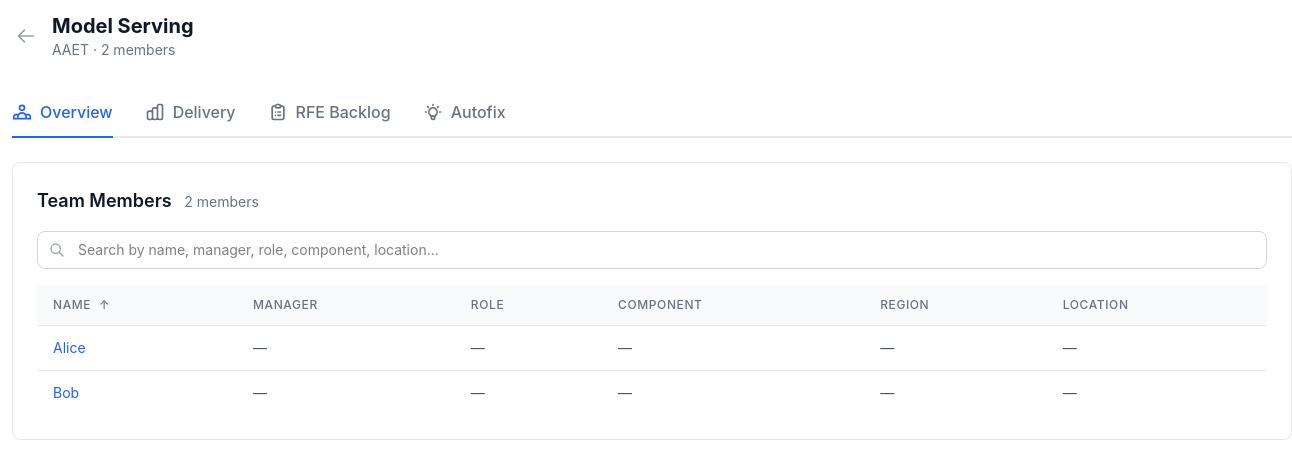
Test: TeamRosterView › degrades gracefully when loadTeamDetail fails
# RFE Backlog tab shows fallback
Click the button "RFE Backlog" at [329, 117], box x1=268 y1=96 x2=391 y2=138
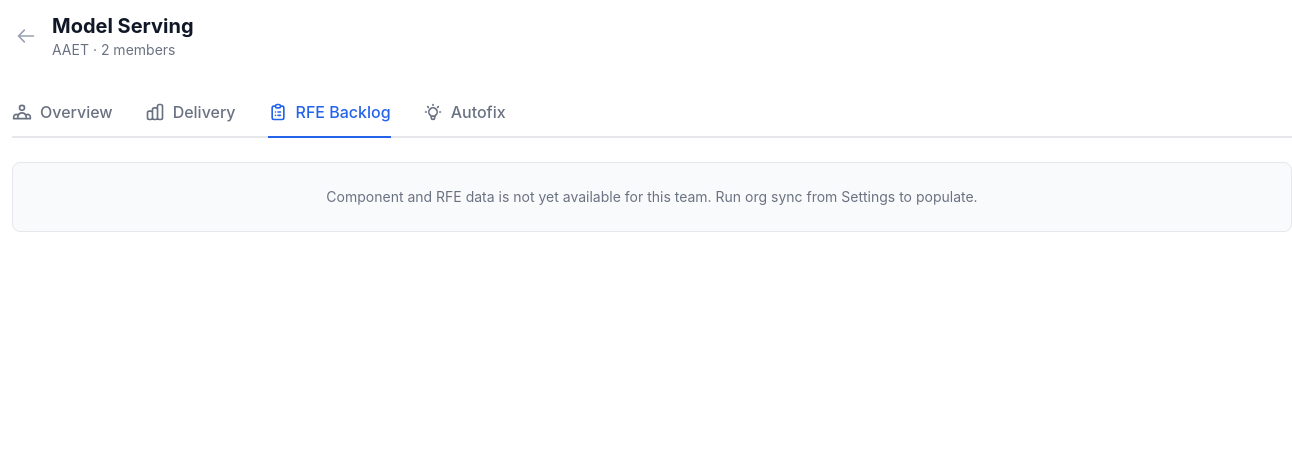
Expected: the text "not yet available" is shown, x1=326 y1=188 x2=978 y2=205
